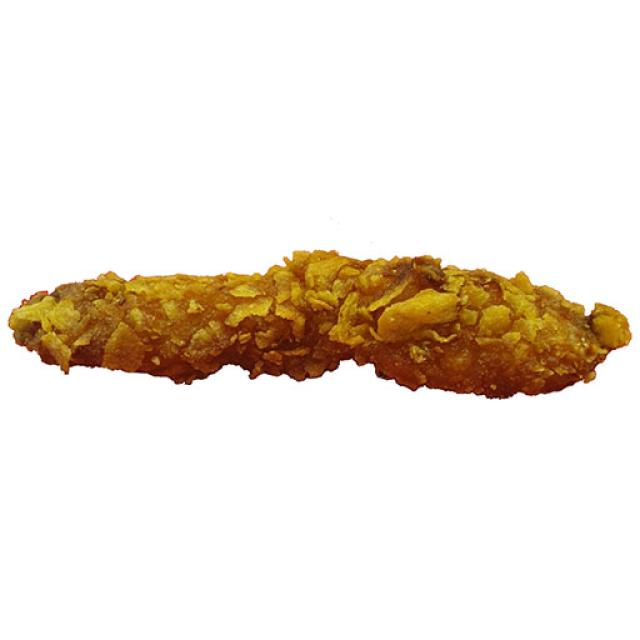Frango: (9, 224, 632, 418)
